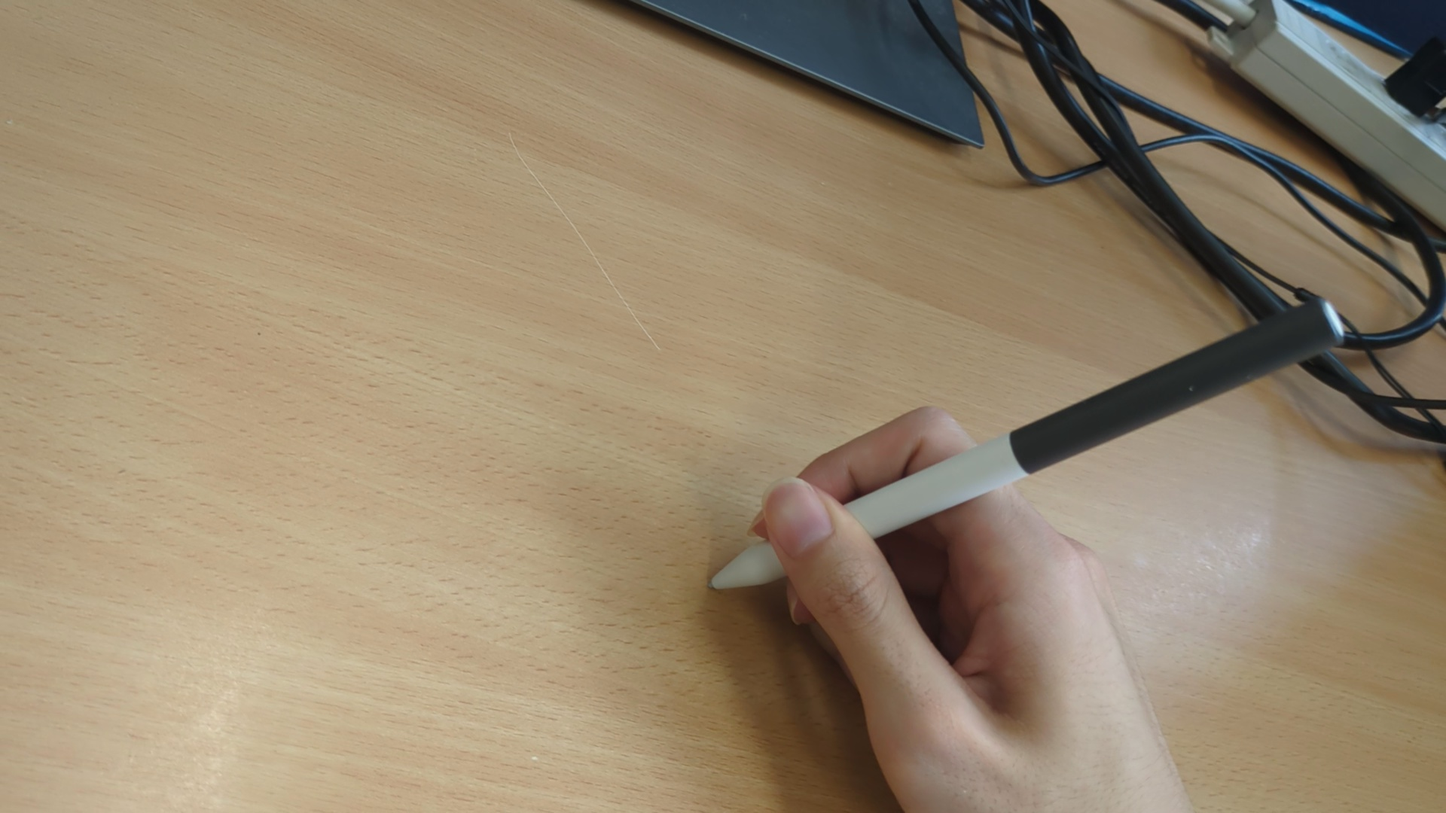pen: (701, 300, 1347, 594)
tip: (703, 570, 730, 594)
